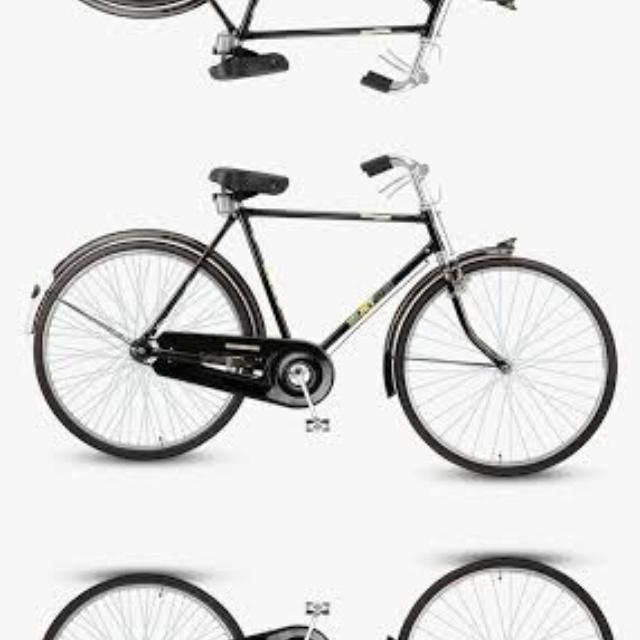obstacle: (14, 134, 624, 478), (14, 0, 623, 112), (14, 555, 623, 640)
